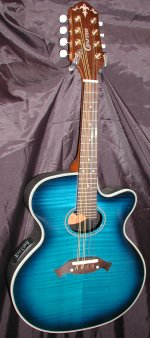guitar: (4, 2, 145, 335)
